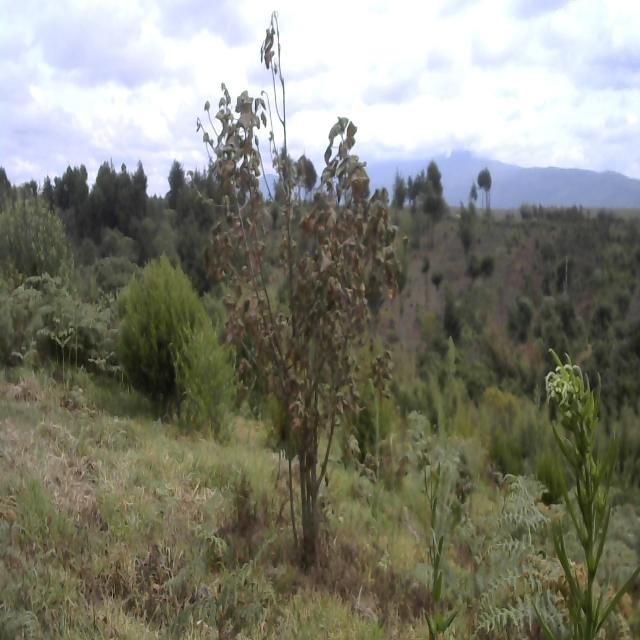Podocarpus falcatus: (525, 353, 640, 640)
cedrus: (118, 254, 209, 400), (424, 157, 448, 215), (165, 156, 189, 205), (131, 158, 149, 212), (475, 162, 496, 205), (392, 164, 406, 205)
other: (204, 36, 403, 539), (174, 307, 247, 432), (0, 189, 71, 276)
